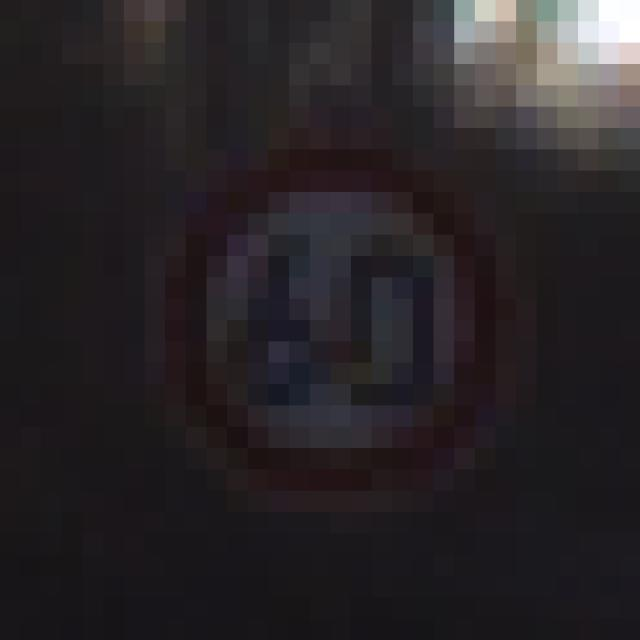Ograniczenie predkosci do 60: (178, 156, 502, 486)
